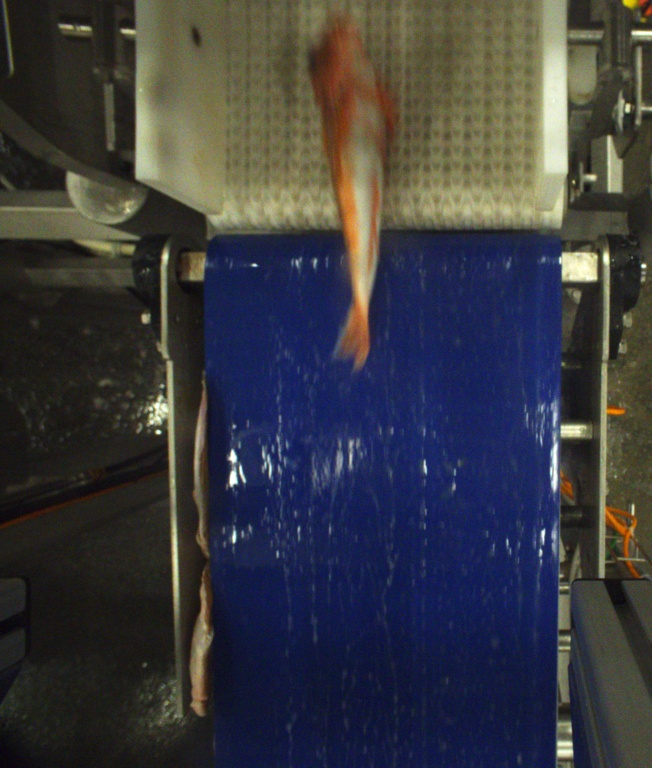GUU: (312, 10, 393, 374)
